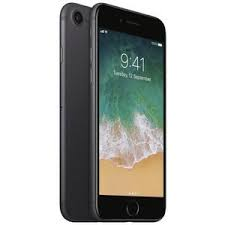iphone: (86, 1, 168, 224)
iphone7: (87, 2, 169, 225)
